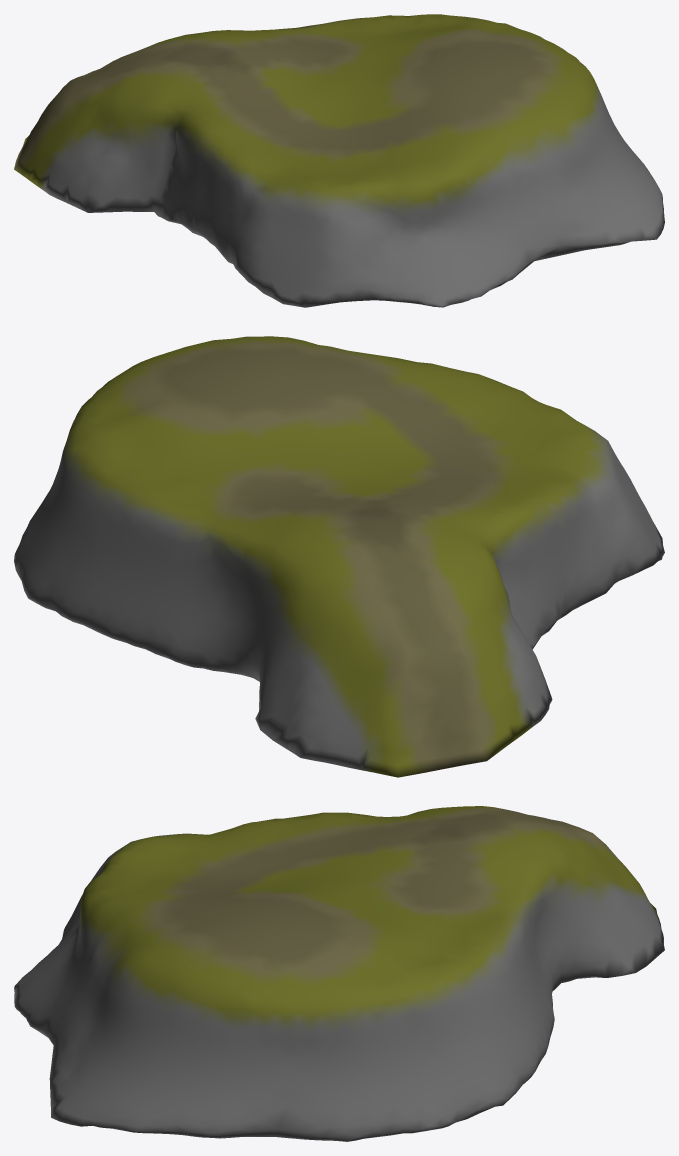
File: zuhause.glb
The picture shows the model from 3 angles, top to bottom: view 1: azimuth 30°, elevation 25°; view 2: azimuth 150°, elevation 25°; view 3: azimuth 270°, elevation 25°; orthographic projection. The views are drawn at different scales.
Visible parts, largest first — view 1: Plane; view 2: Plane; view 3: Plane.
Part boxes in pixels (box(x1,y1,x2,y2)): Plane: box(14, 14, 664, 307); Plane: box(14, 336, 664, 777); Plane: box(14, 806, 664, 1141).
Bounding box in the file's own units: 479 × 127 × 497.
Materials: 1 (1 with a texture image).
